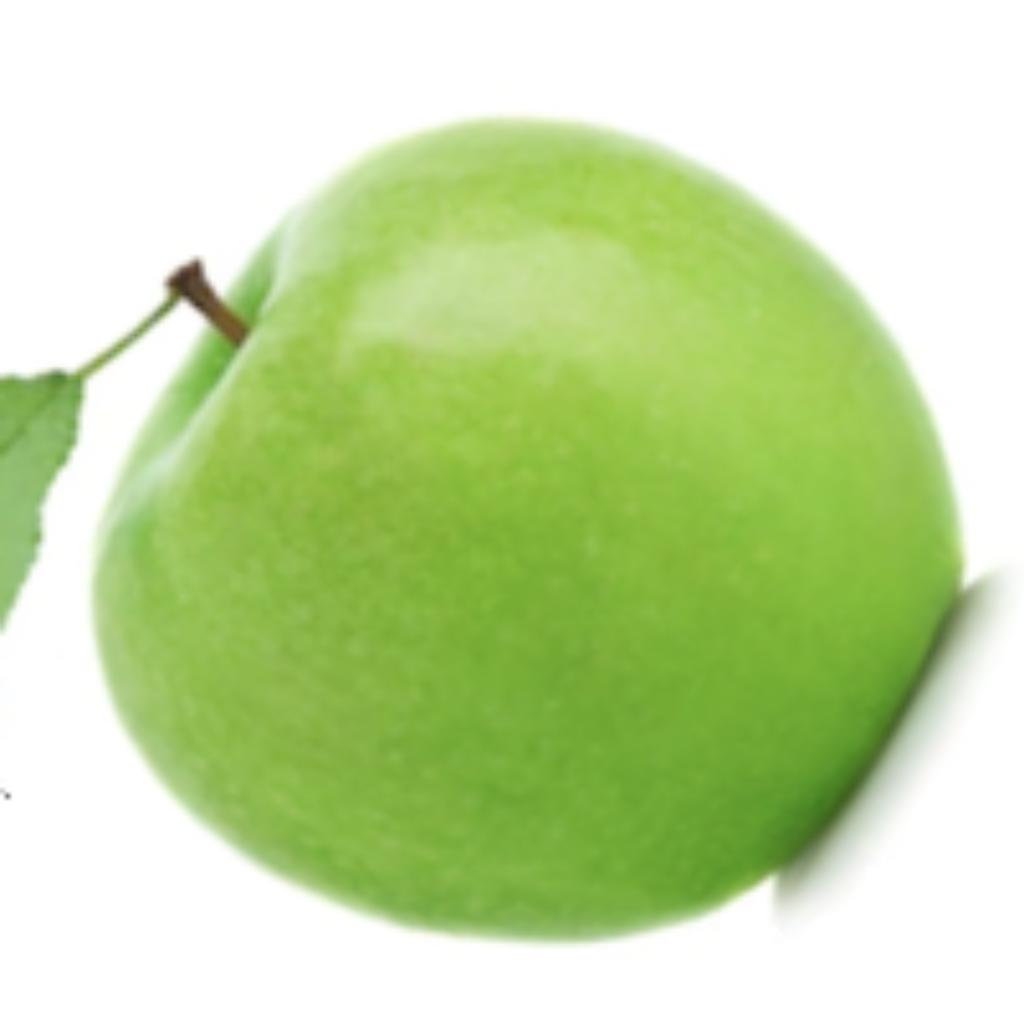apple: (59, 108, 1014, 947)
